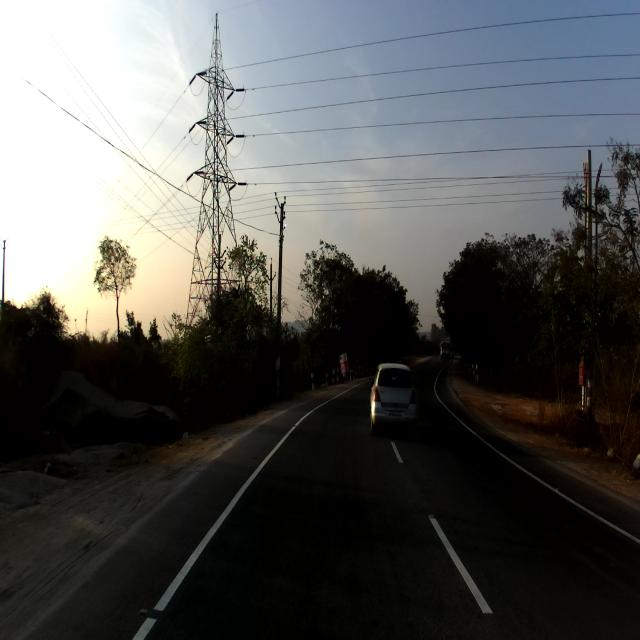car ahead at: (372, 358, 419, 436)
